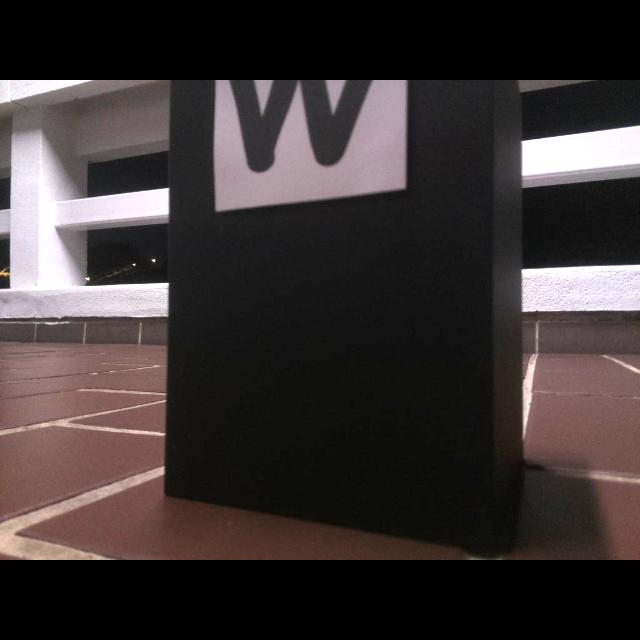W: (227, 80, 374, 175)
